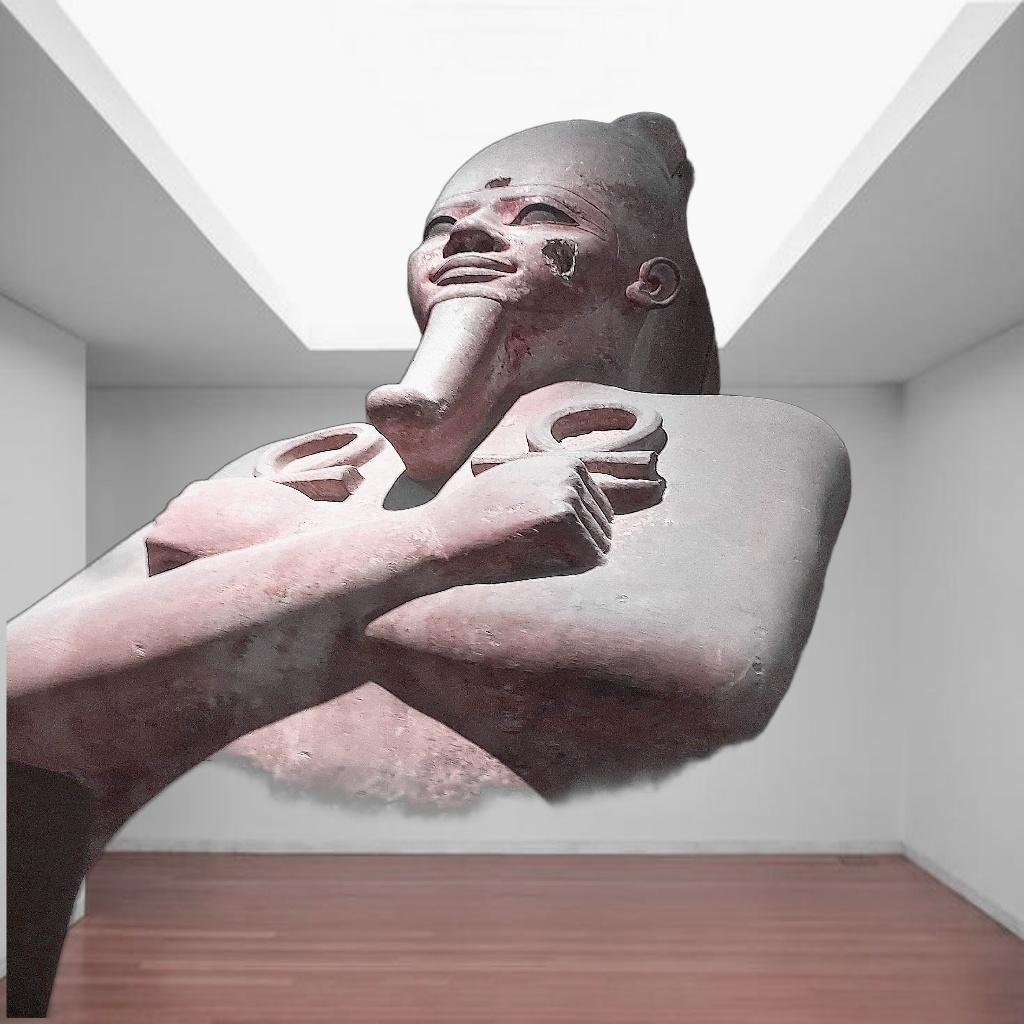Colossus of Senuseret I: (6, 108, 862, 1018)
